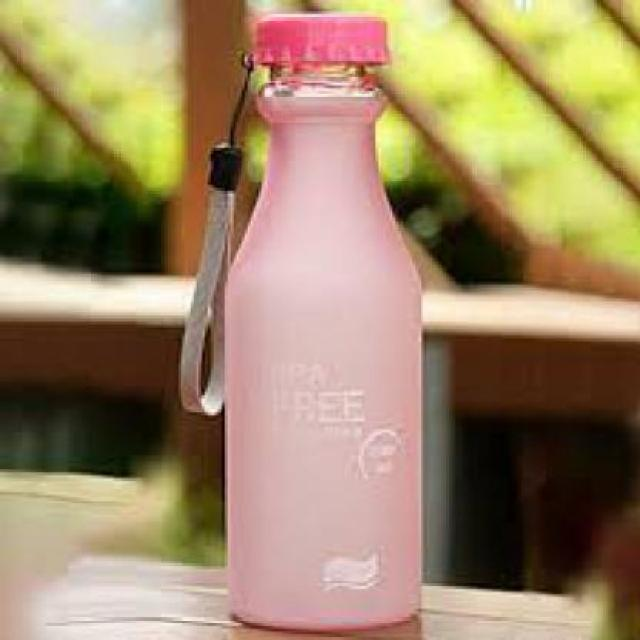Drinking: (211, 9, 432, 628)
